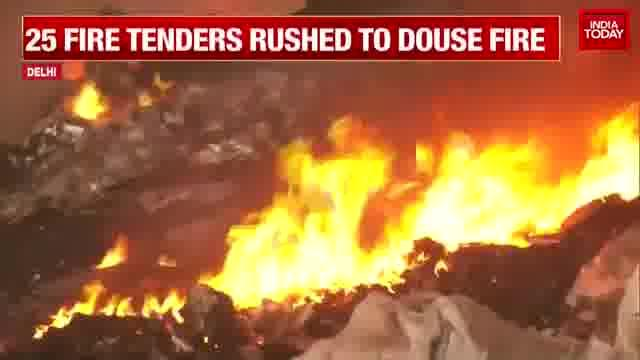fire: (220, 150, 389, 300), (393, 142, 640, 240), (46, 284, 188, 328), (68, 84, 110, 118)
